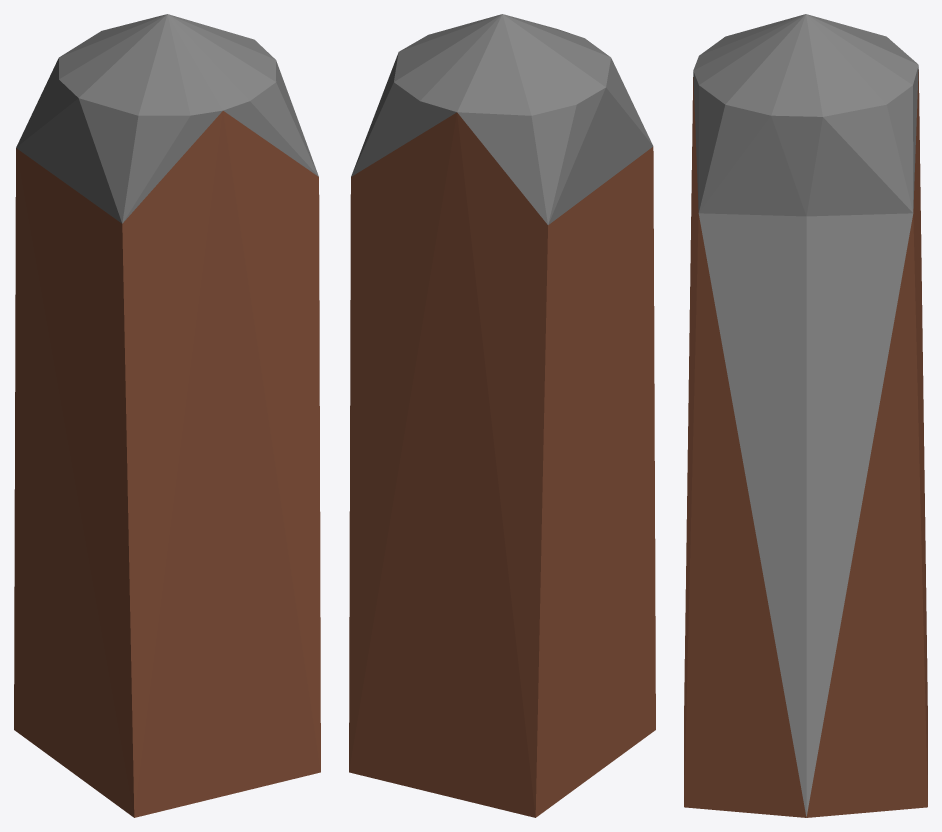
Rendered from WaterTower.lod4.glb.
The picture shows the model from 3 angles, left to right: view 1: azimuth 30°, elevation 25°; view 2: azimuth 150°, elevation 25°; view 3: azimuth 270°, elevation 25°; orthographic projection.
Visible parts, largest first — view 1: WaterTower; view 2: WaterTower; view 3: WaterTower.
Part boxes in pixels (<box>): WaterTower: <box>14,14,320,817</box>; WaterTower: <box>349,14,655,817</box>; WaterTower: <box>684,14,927,817</box>.
Bounding box in the file's own units: 2.52 × 8.43 × 2.49.
